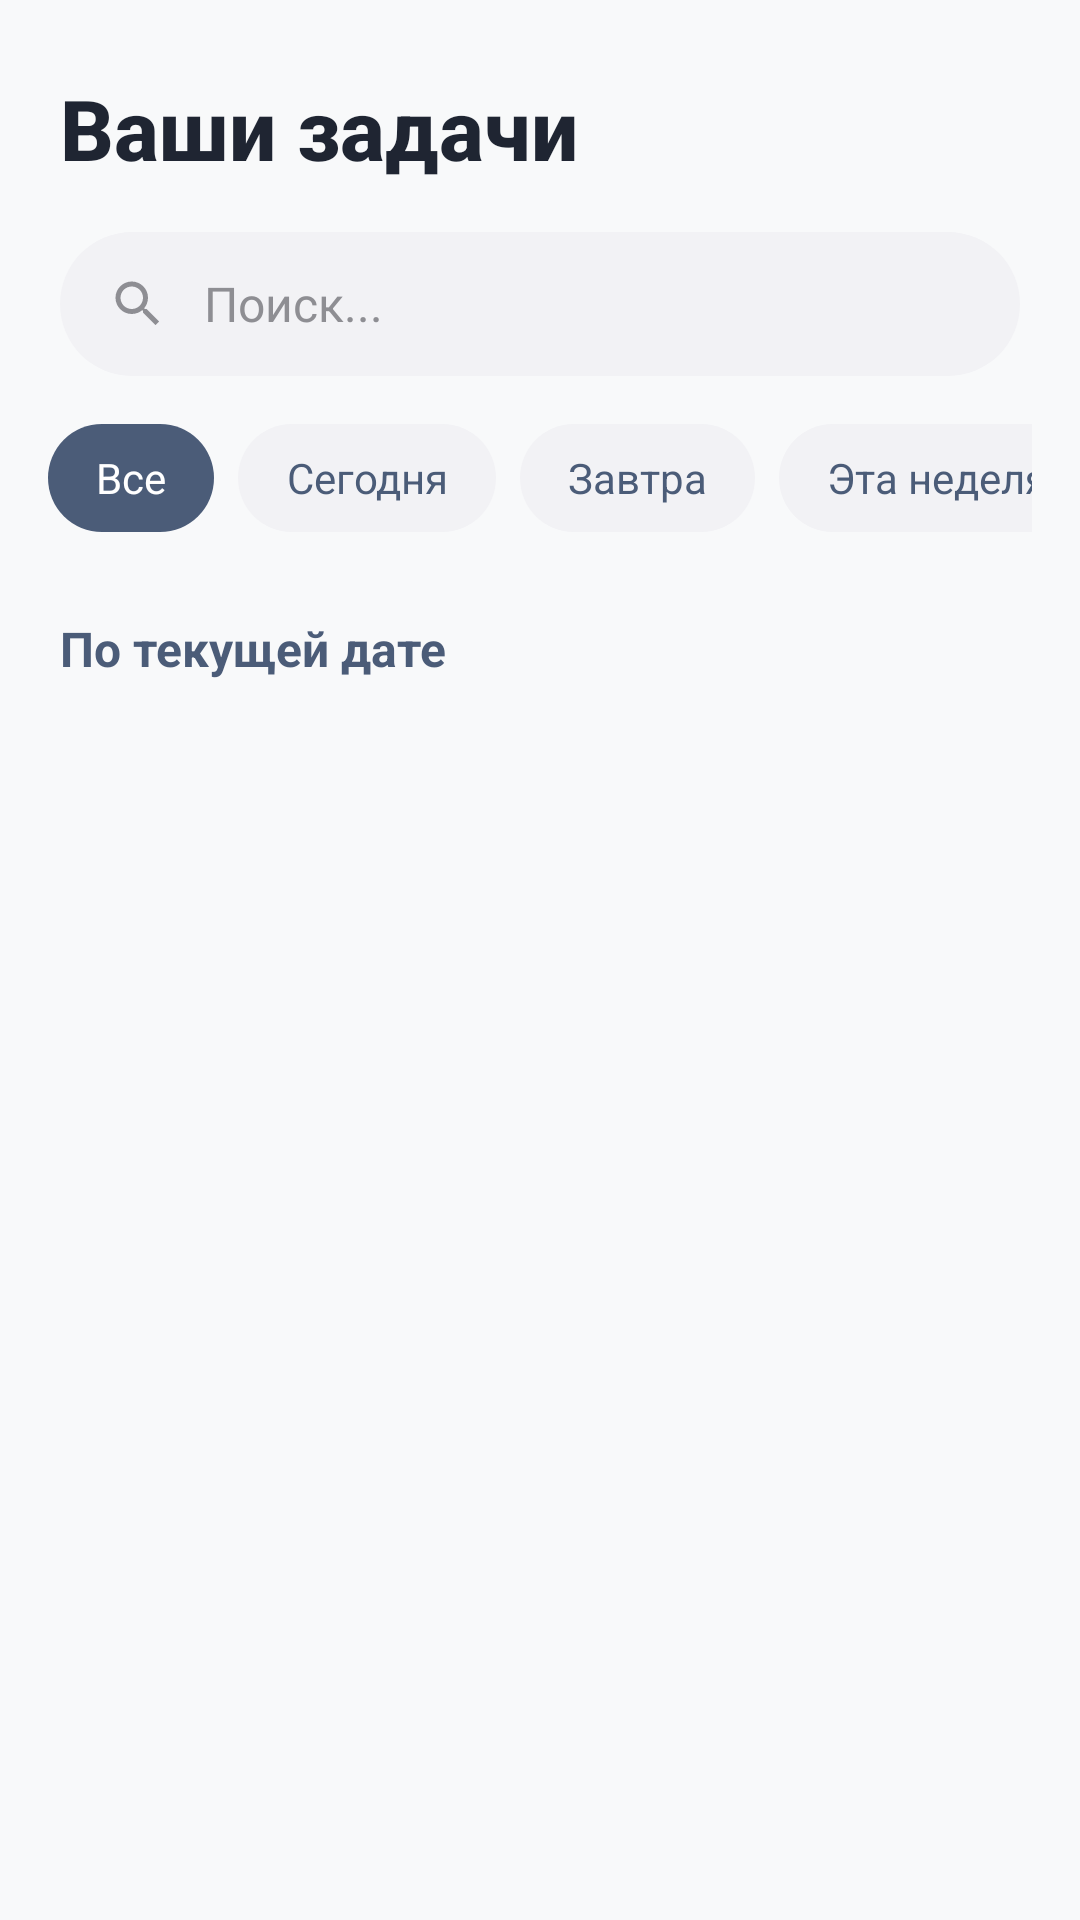

Icons on this 1080 × 1920 Android screen, each with the point to tap as (x=x, y=y):
search: (x=137, y=303)
